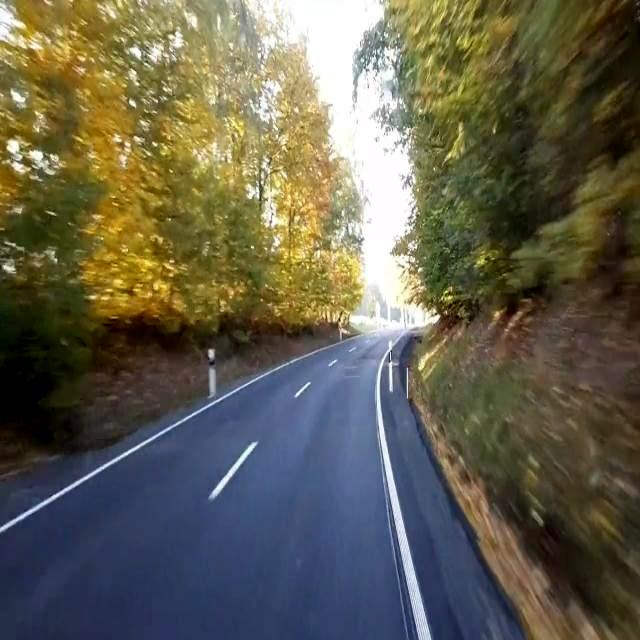lane: (1, 343, 340, 534), (376, 350, 432, 640), (209, 441, 257, 501)
road: (0, 331, 416, 639), (382, 365, 524, 639)
